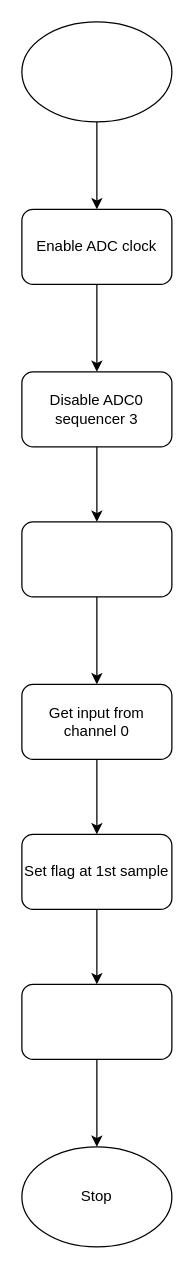
Image size: 194x1269. Some labels were removed from this diagram. The centre of each missing label's shape, as x and y in pixels:
"Enable ADC0 sequencer 3 & clear interrupt" goes at pixel 96 1021.
"Give software trigger" goes at pixel 96 559.
"Start" goes at pixel 96 71.
